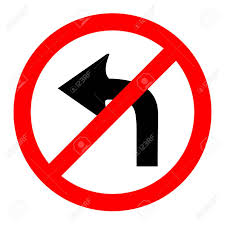No_left_turn: (12, 13, 213, 210)
